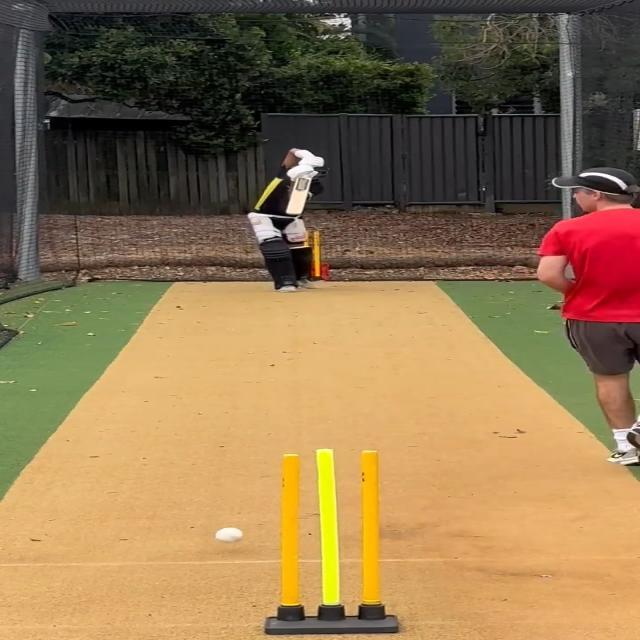ball: (211, 524, 246, 546)
stump: (262, 447, 402, 636)
